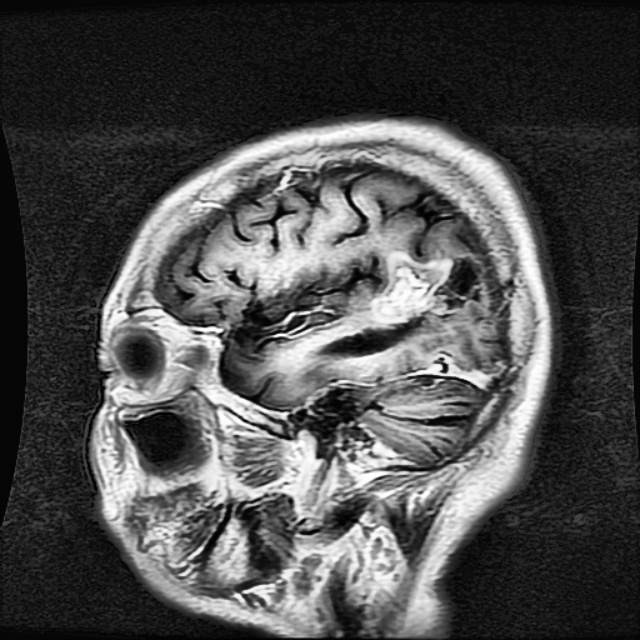Meningioma: (322, 250, 480, 357)
